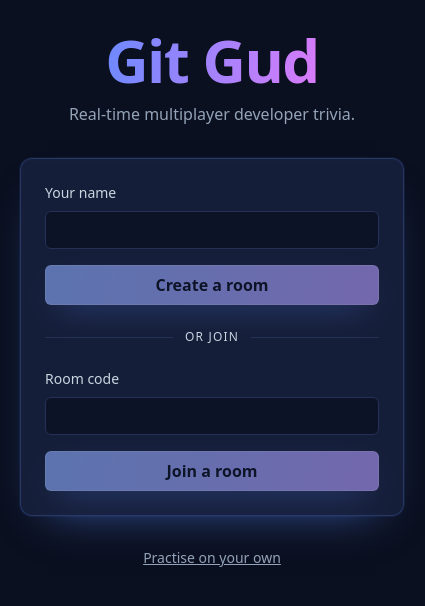
Test case: lobby screen › shows the problem detail and stays put when the room is unknown
Type "Sam" into the field labelled "Your name" at (212, 230), box [45, 211, 379, 249]
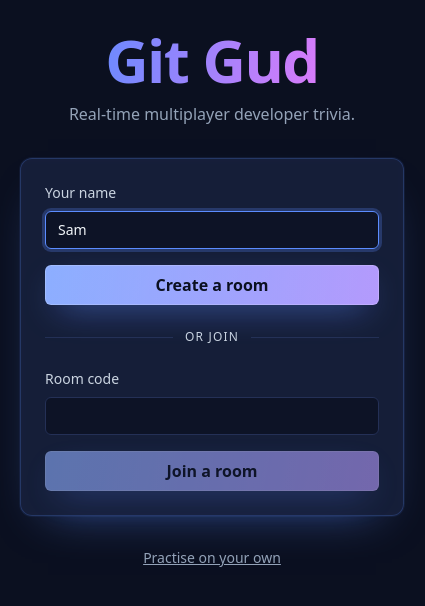
Type "ZZZZZZ" into the field labelled "Room code" at (212, 416), box [45, 397, 379, 435]
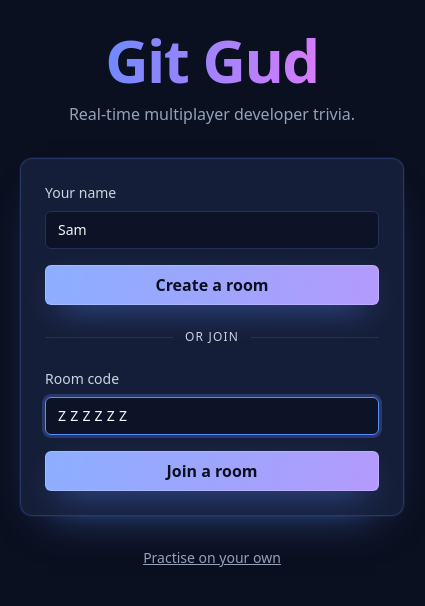
Click the button "Join a room" at (212, 471), box [45, 451, 379, 491]
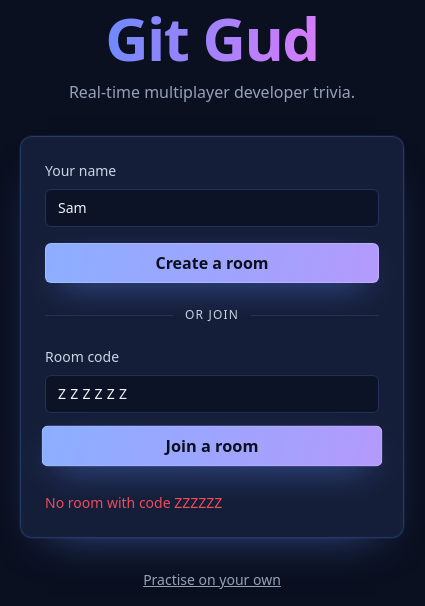
Expected: the message reads "No room with code ZZZZZZ", [45, 493, 222, 512]
